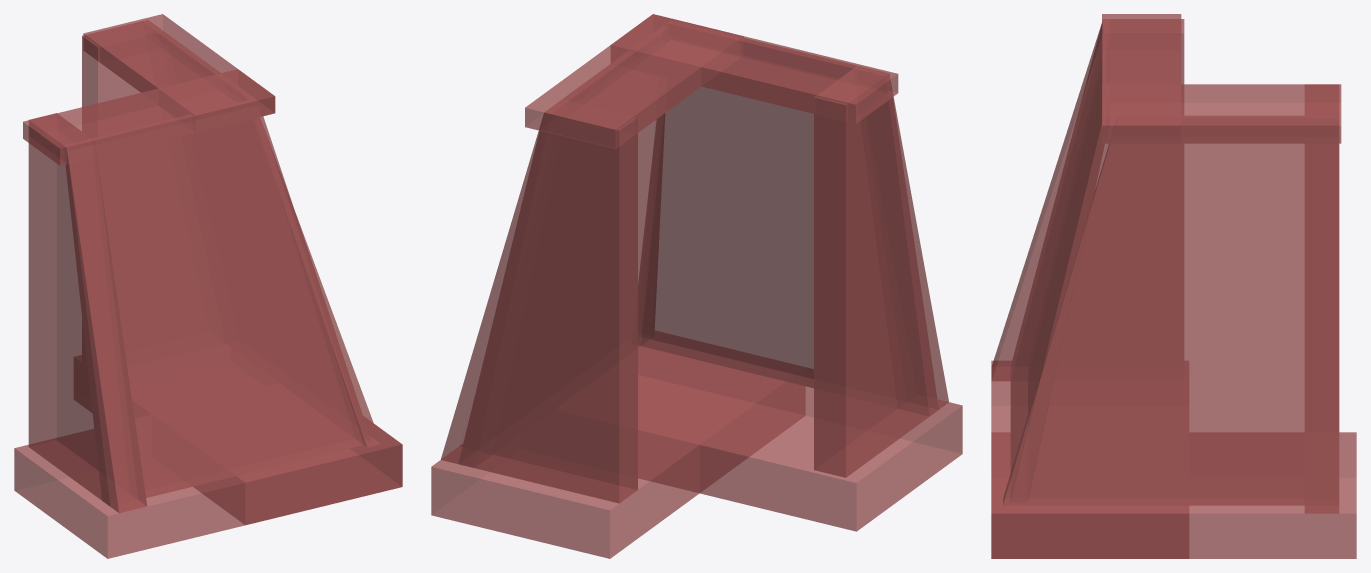
File: SM_Bld_Alcove_Corner_01_Collision.fbx
3 renders of one model, left to right at view 1: azimuth 30°, elevation 25°; view 2: azimuth 150°, elevation 25°; view 3: azimuth 270°, elevation 25°, orthographic. The views are drawn at different scales.
Parts seen in each view (by area): view 1: SM_Bld_Alcove_Corner_01_Collision; view 2: SM_Bld_Alcove_Corner_01_Collision; view 3: SM_Bld_Alcove_Corner_01_Collision.
Part boxes in pixels (x1,y1,x2,y2): SM_Bld_Alcove_Corner_01_Collision: (14,14,402,558); SM_Bld_Alcove_Corner_01_Collision: (431,14,962,558); SM_Bld_Alcove_Corner_01_Collision: (991,14,1356,558).
Size of the model in its own units: 280 by 337 by 283.
